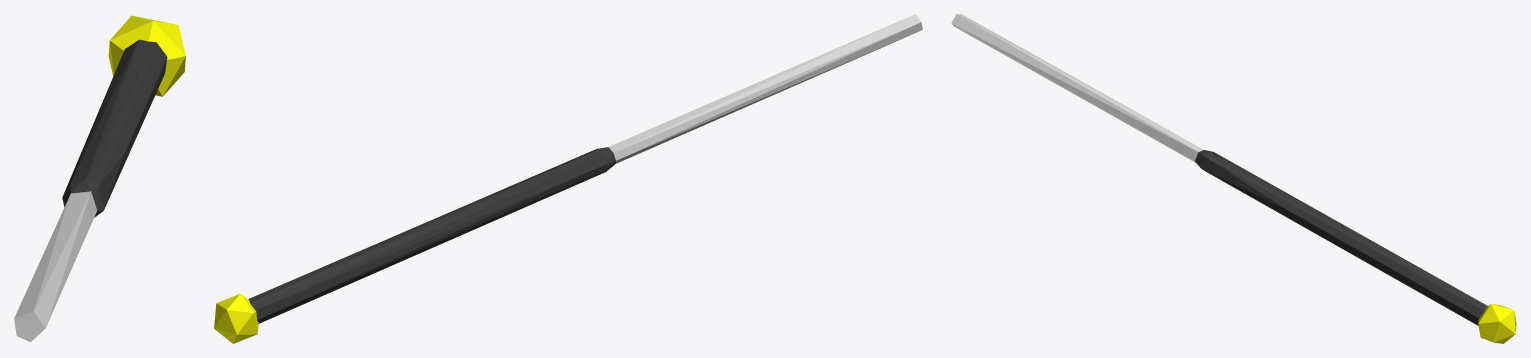
File: SPARKLERRIGHT..fbx
3 renders of one model, left to right at view 1: azimuth 90°, elevation 25°; view 2: azimuth 210°, elevation 25°; view 3: azimuth 330°, elevation 25°, orthographic. The views are drawn at different scales.
Parts seen in each view (by area): view 1: sparkler, sparklertip; view 2: sparkler, sparklertip; view 3: sparkler, sparklertip.
Boxes of the visible parts, x1,y1,x2,y2 form: sparkler: (14, 39, 167, 342); sparklertip: (108, 15, 185, 96); sparkler: (248, 14, 922, 323); sparklertip: (214, 293, 258, 343); sparkler: (951, 14, 1487, 325); sparklertip: (1478, 304, 1516, 343).
Bounding box in the file's own units: 23.51 × 6.46 × 2.96.
